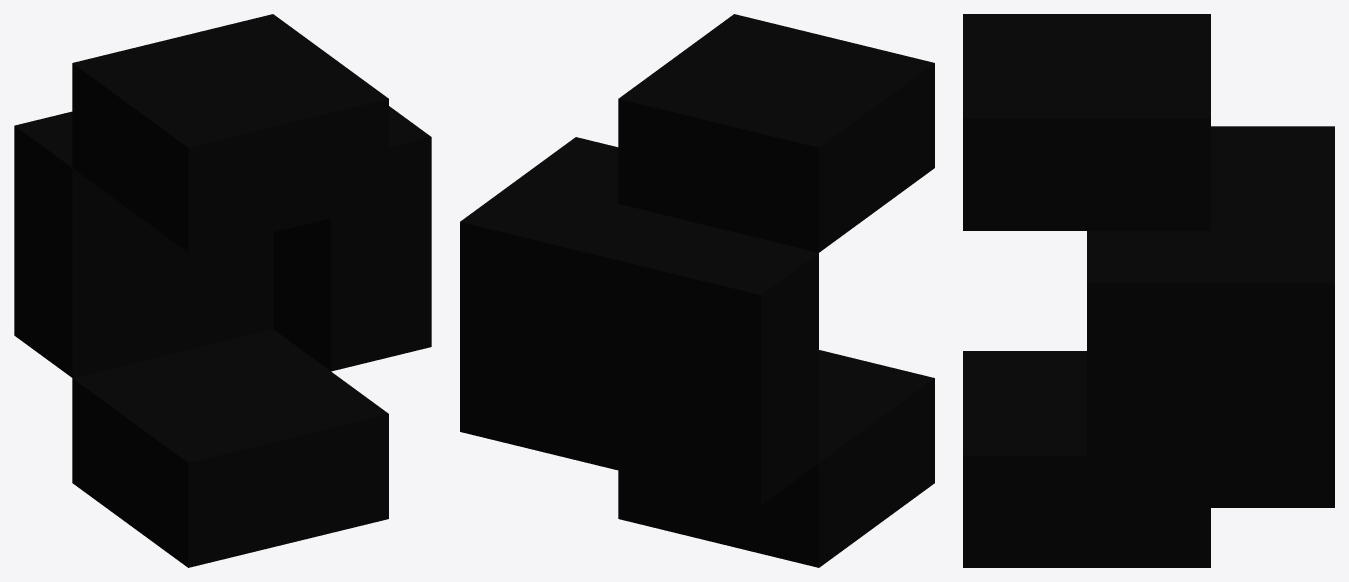
The model's file is Slider_Empty_Right.002.fbx.
3 views of the same model, side by side, from view 1: azimuth 30°, elevation 25°; view 2: azimuth 150°, elevation 25°; view 3: azimuth 270°, elevation 25° (orthographic). The views are drawn at different scales.
Visible parts, largest first — view 1: Slider_Empty_Right.002; view 2: Slider_Empty_Right.002; view 3: Slider_Empty_Right.002.
Boxes of the visible parts, x1,y1,x2,y2 form: Slider_Empty_Right.002: (14, 14, 431, 567); Slider_Empty_Right.002: (460, 14, 934, 567); Slider_Empty_Right.002: (963, 14, 1334, 567).
Bounding box in the file's own units: 0.3 × 0.4 × 0.3.
